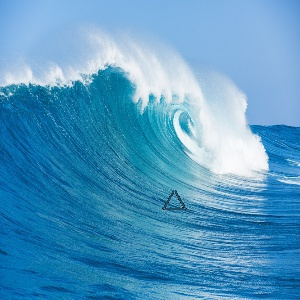triangle: (160, 187, 188, 213)
